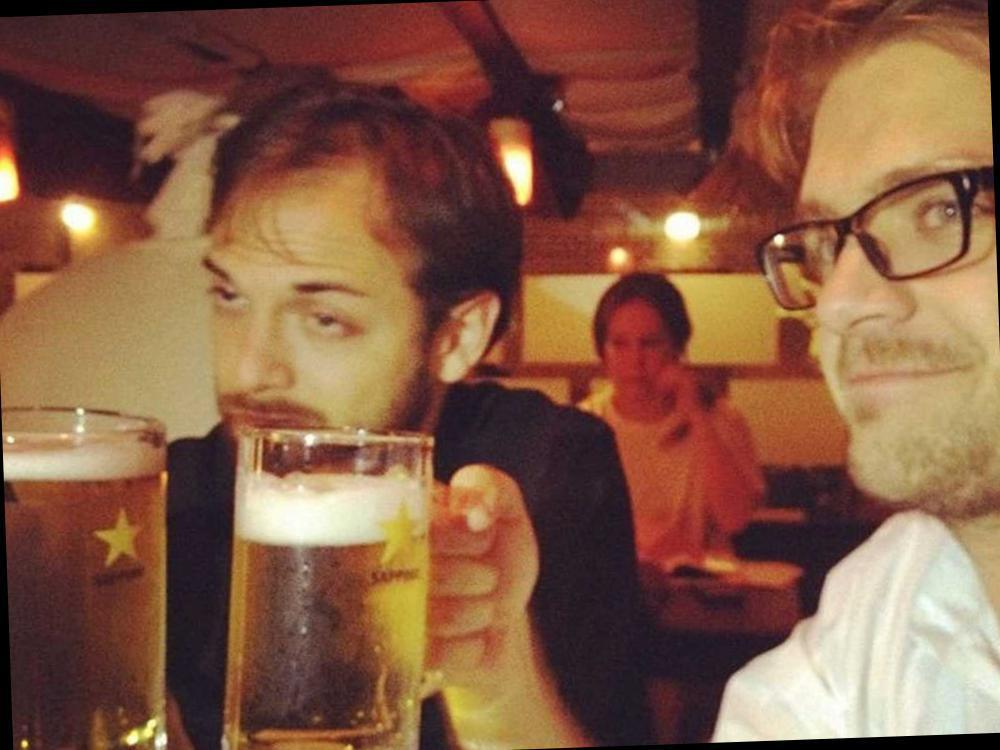Drunk: (201, 189, 425, 447)
